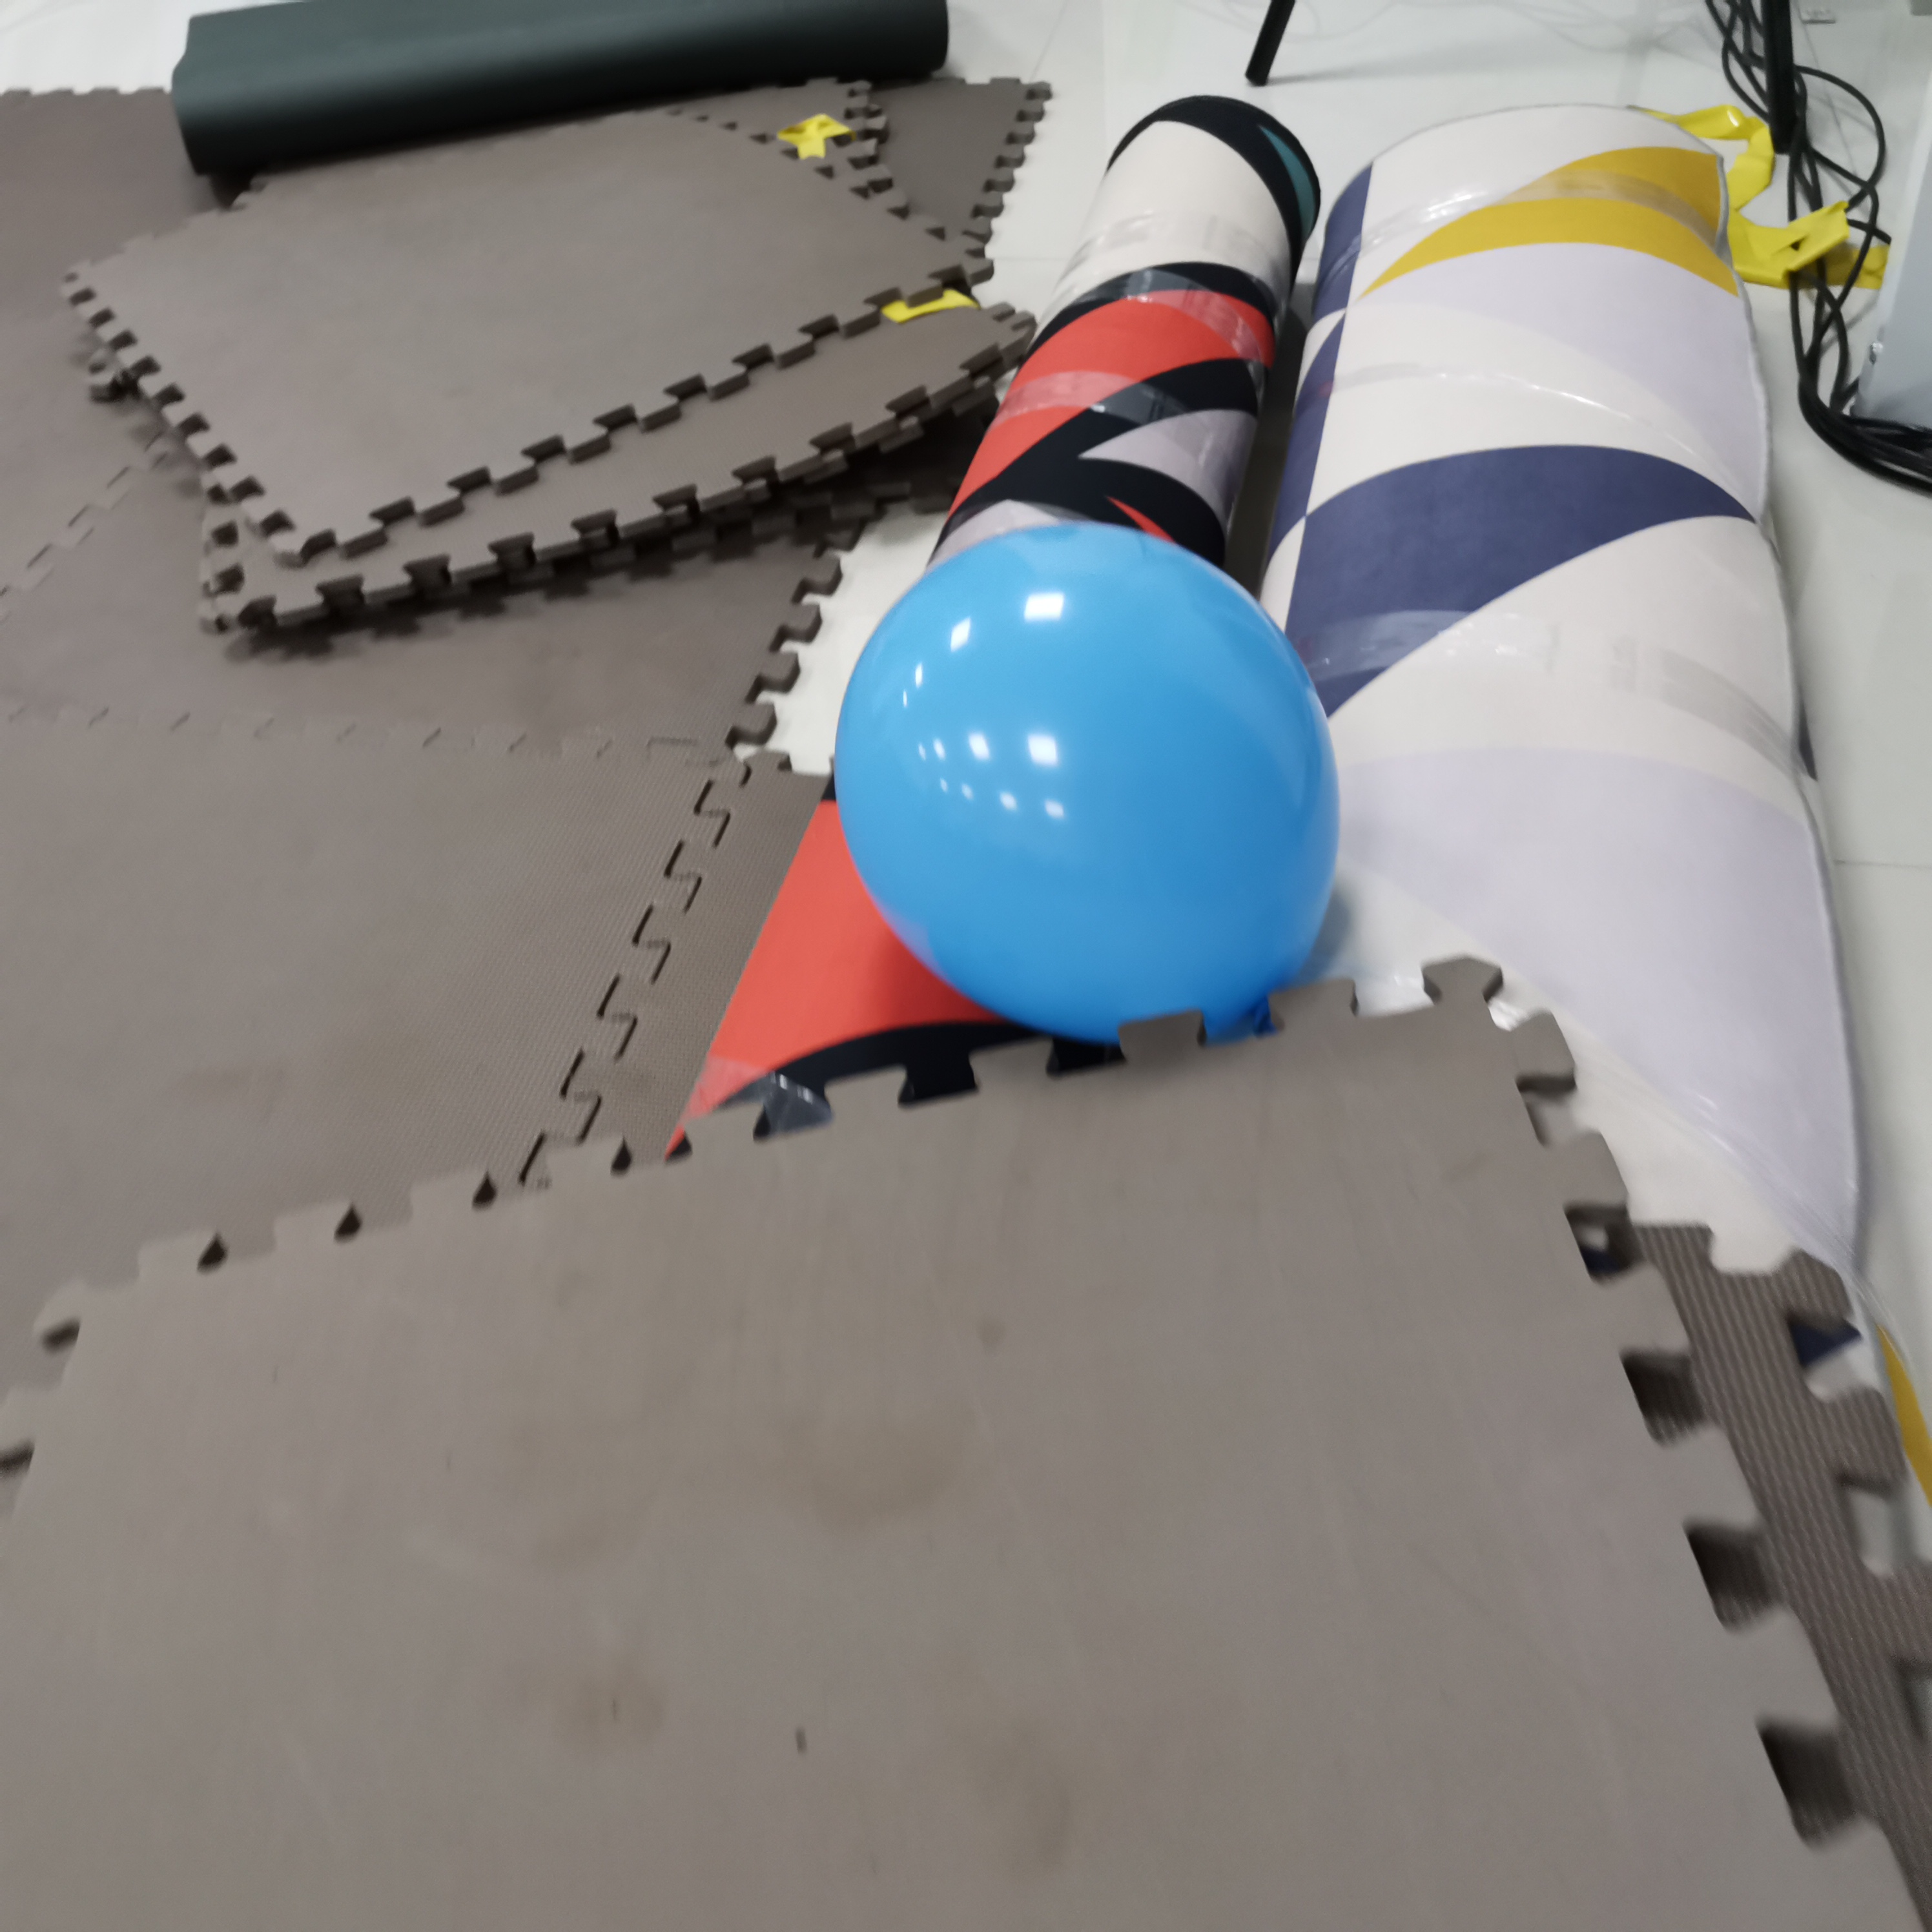balloon: (830, 525, 1343, 1042)
